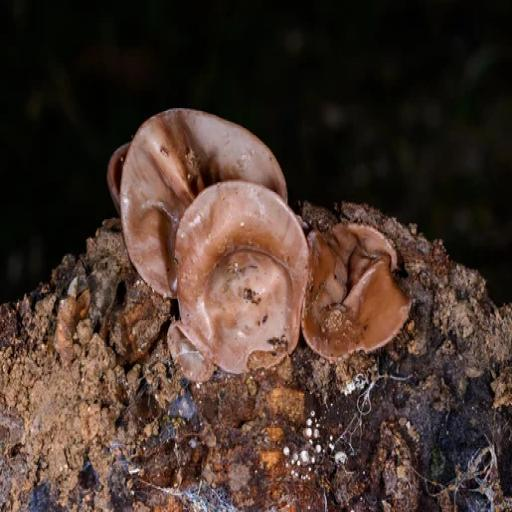mushroom: (119, 94, 287, 292), (171, 180, 306, 385), (294, 215, 411, 362)
